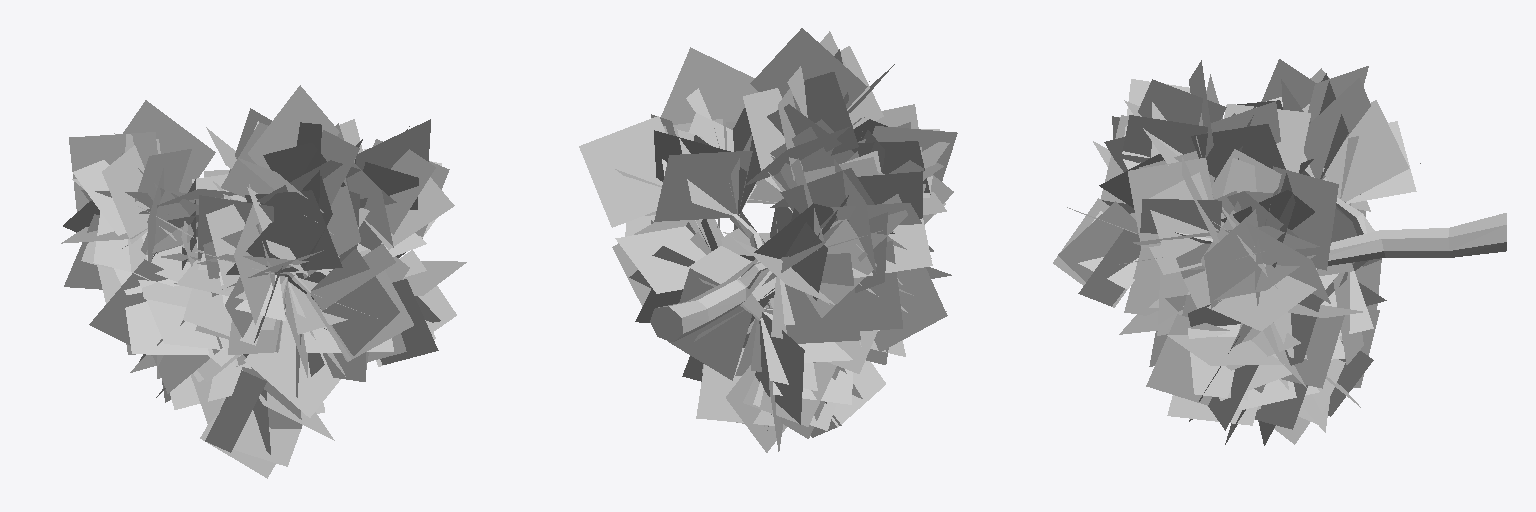
Rendered from green2.obj.
3 views of the same model, side by side, from view 1: azimuth 30°, elevation 25°; view 2: azimuth 150°, elevation 25°; view 3: azimuth 270°, elevation 25° (orthographic).
Visible parts, largest first — view 1: Model__blend_root; view 2: Model__blend_root; view 3: Model__blend_root.
Boxes of the visible parts, <box> form: Model__blend_root: <box>61,85,466,478</box>; Model__blend_root: <box>579,28,957,452</box>; Model__blend_root: <box>1053,59,1506,445</box>.
Size of the model in its own units: 8.42 by 8.87 by 9.21.